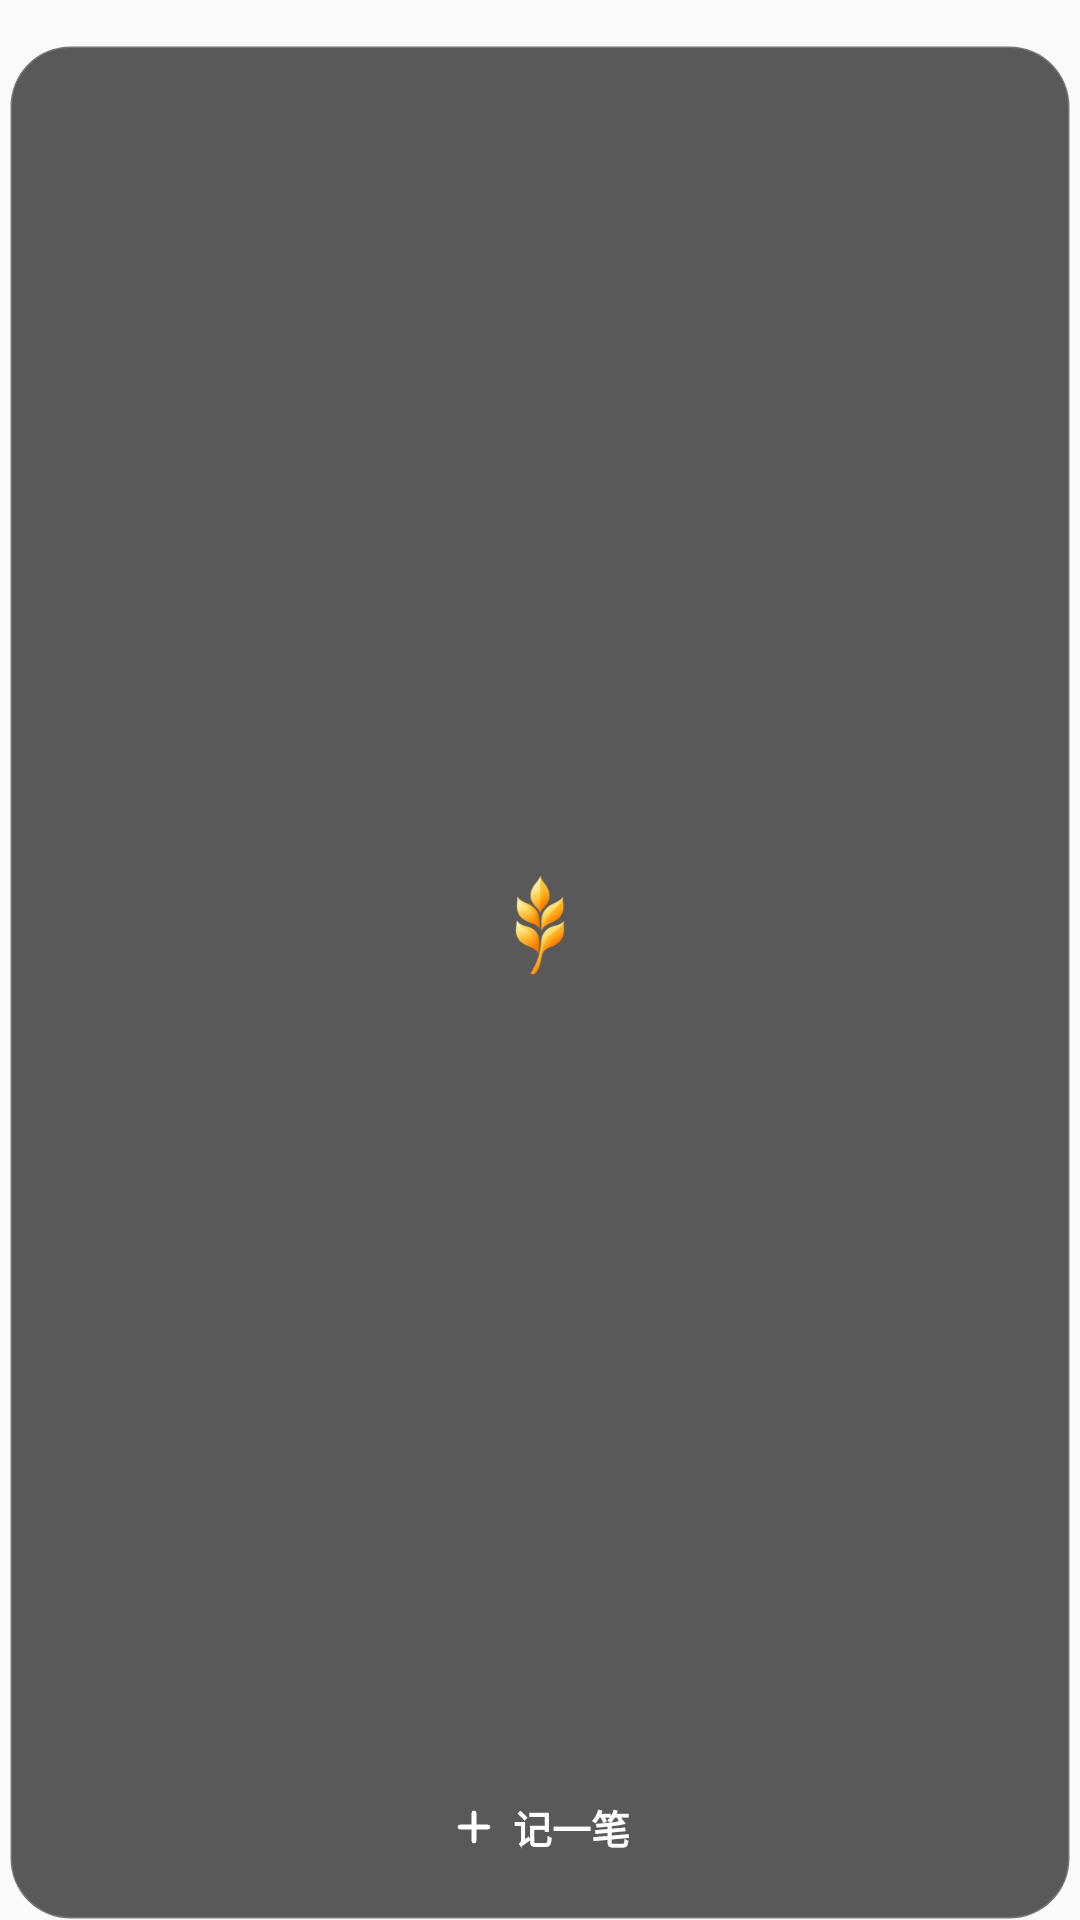

Named icons in this screenshot (1080x1920) and their centers, (x=x, y=y):
brand: (x=540, y=925)
widget add: (x=474, y=1827)
